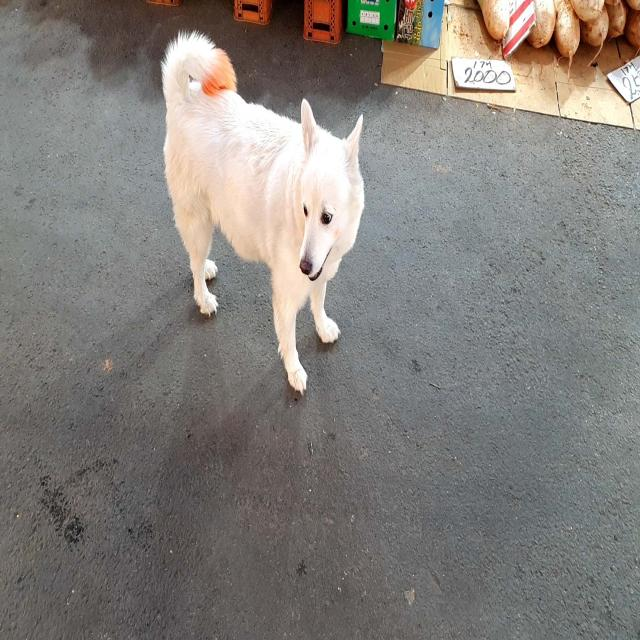Dog: (162, 32, 366, 398)
